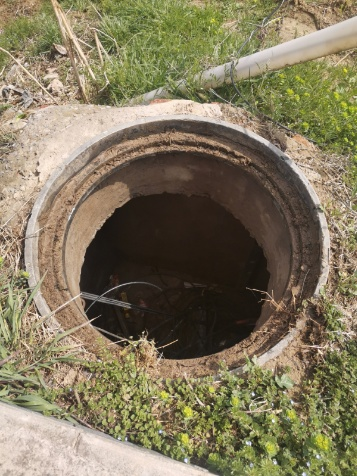lose: (23, 112, 330, 391)
